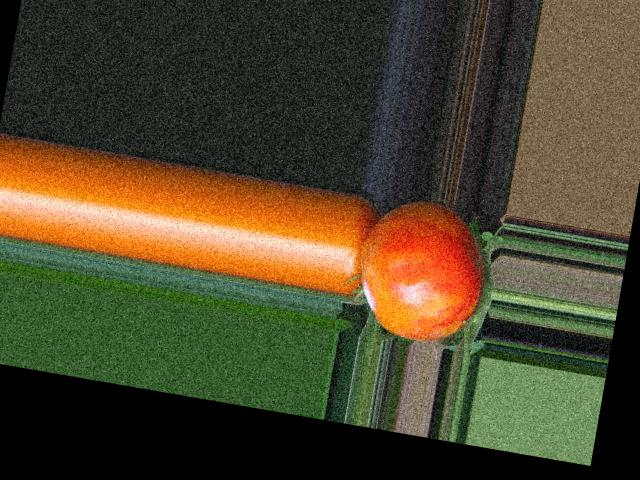tomato: (349, 192, 493, 349)
